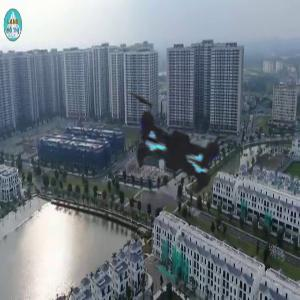drone: (66, 30, 295, 259)
